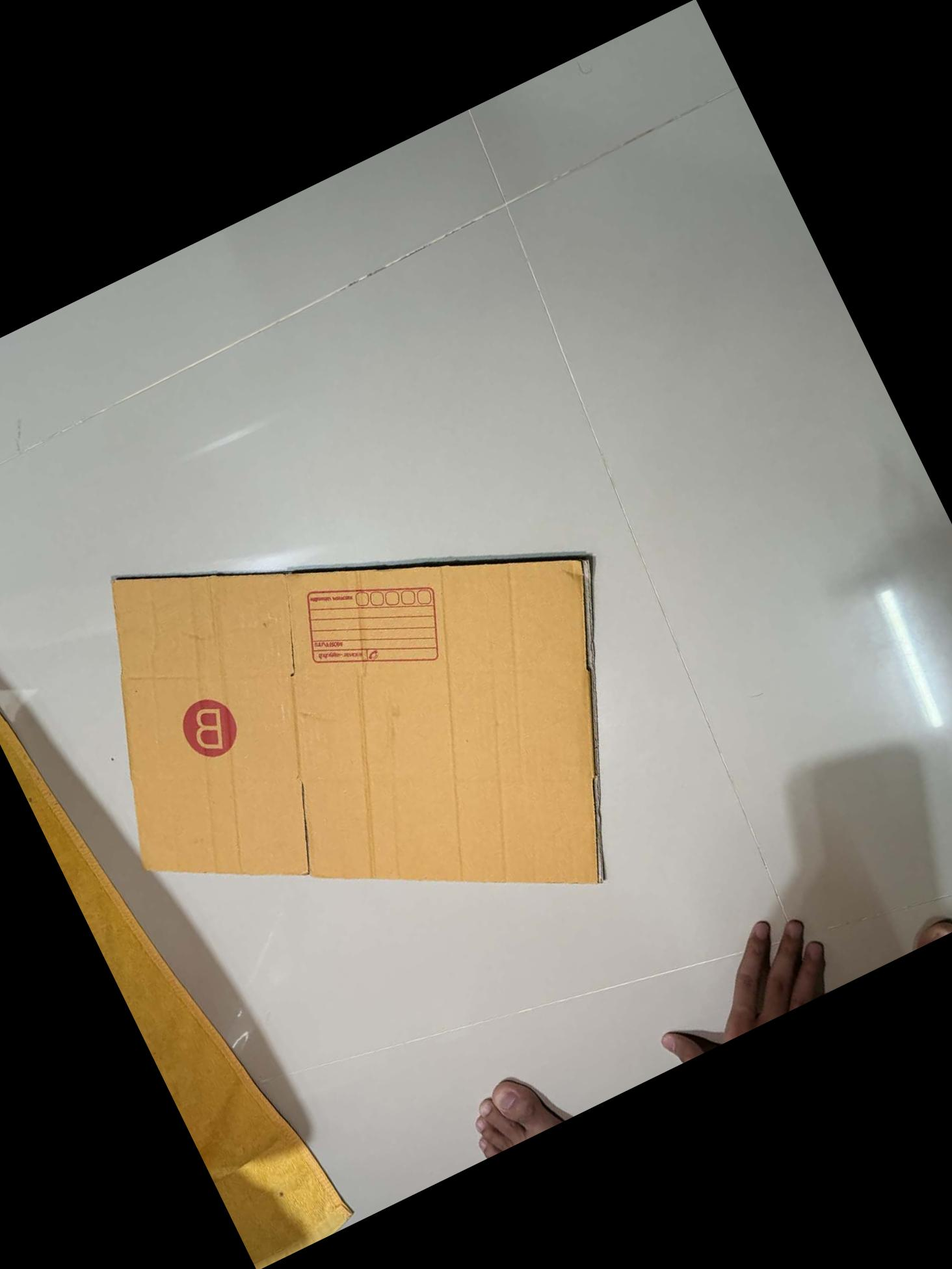box: (283, 532, 467, 713), (168, 690, 248, 768)
class0: (18, 374, 726, 1060)
